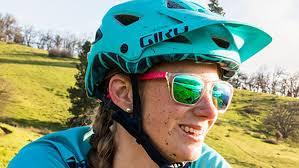helmet: (71, 0, 270, 103)
